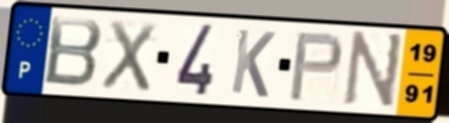4: (173, 22, 216, 99)
B: (41, 14, 105, 90)
K: (228, 26, 278, 101)
N: (340, 29, 407, 113)
P: (286, 31, 346, 103)
X: (98, 17, 158, 94)
